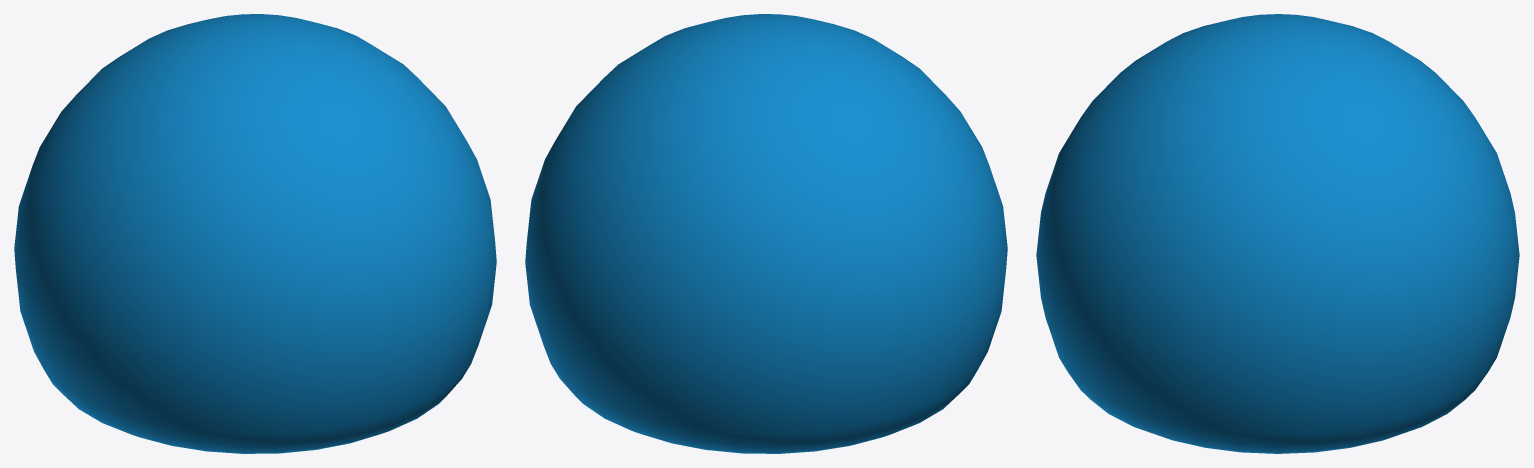
Rendered from onil_pie_derecho.obj.
3 views of the same model, side by side, from view 1: azimuth 30°, elevation 25°; view 2: azimuth 150°, elevation 25°; view 3: azimuth 270°, elevation 25° (orthographic).
Parts seen in each view (by area): view 1: Sphere.004; view 2: Sphere.004; view 3: Sphere.004.
Part boxes in pixels (bbox=[...]): Sphere.004: bbox=[14, 14, 496, 453]; Sphere.004: bbox=[525, 14, 1007, 453]; Sphere.004: bbox=[1036, 14, 1519, 453].
Bounding box in the file's own units: 0.48 × 0.3733 × 0.48.
